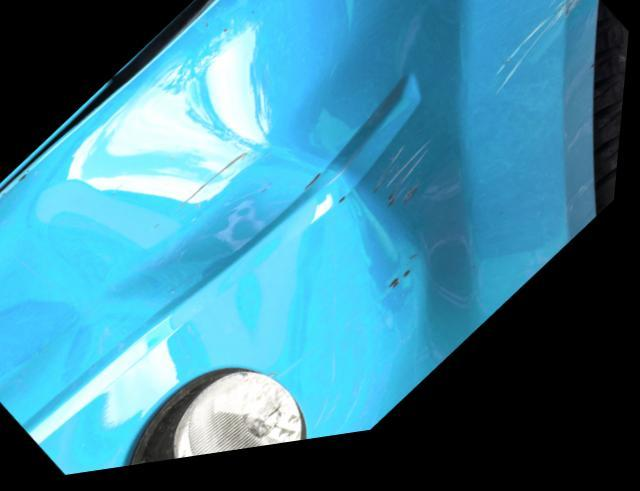dent: (0, 162, 381, 430)
scratch: (493, 0, 593, 124), (155, 158, 252, 236), (376, 151, 465, 224)
